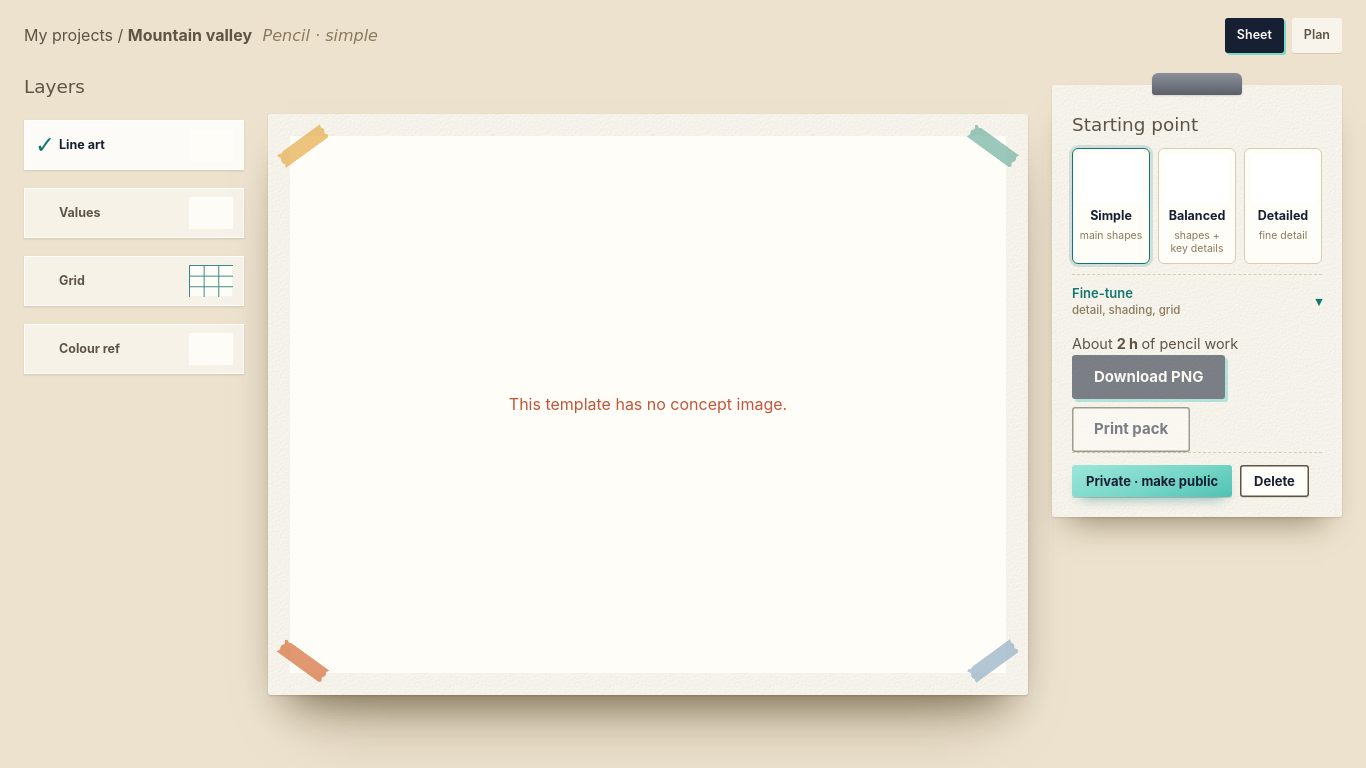
it: Workspace › hides the palette for single-tool mediums like pencil
This screenshot has width=1366, height=768.
Click the button "Fine-tune detail, shading, grid ▾" at (1197, 301), box [1072,274,1322,327]
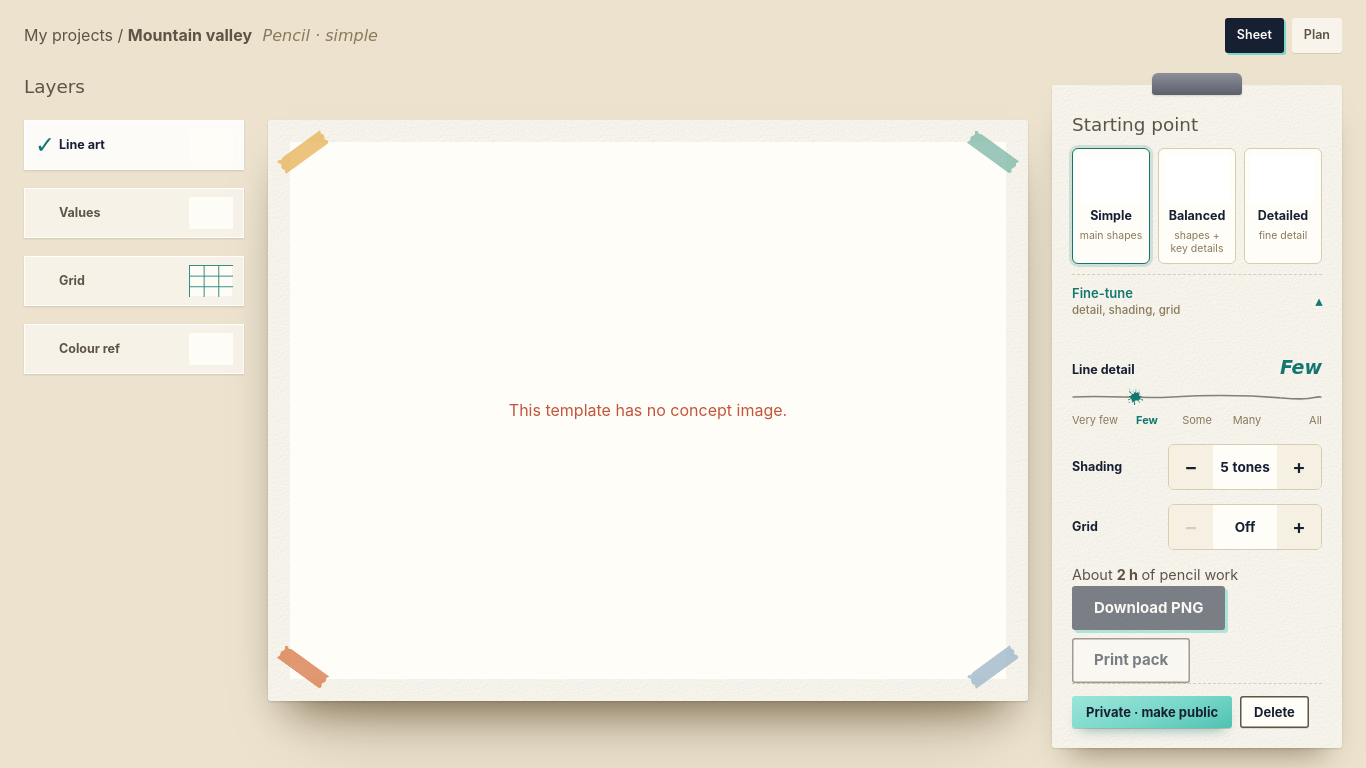
Now the element named "Shading" is shown, box [1168,444,1322,490]
